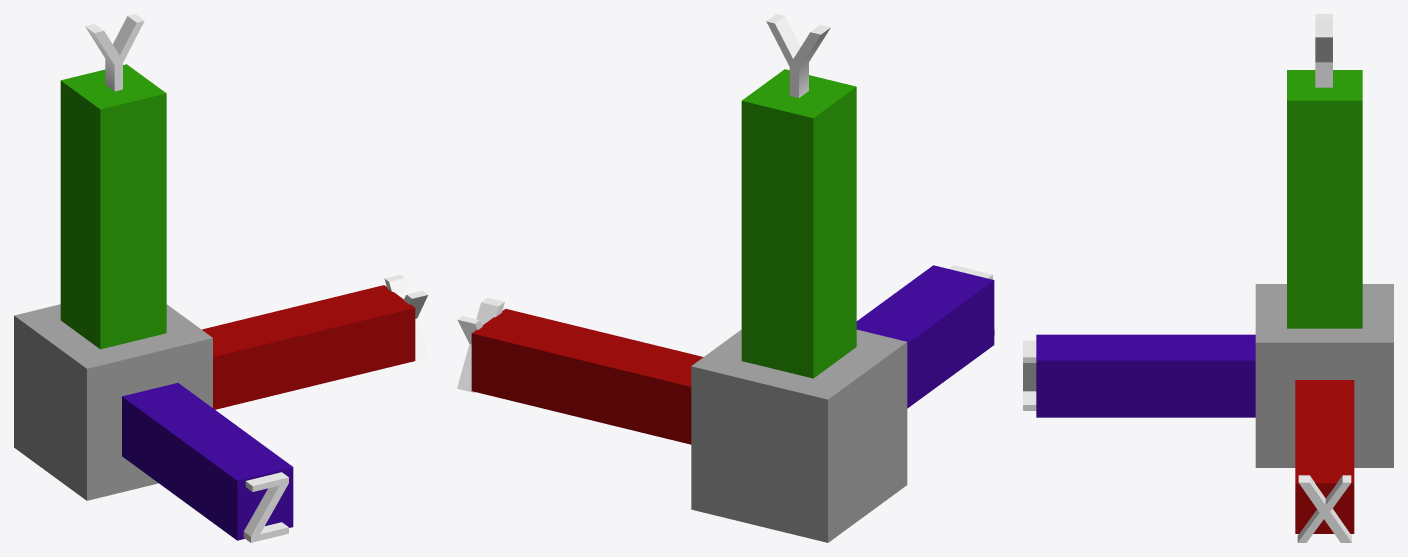
The model's file is XYZ.fbx.
3 renders of one model, left to right at view 1: azimuth 30°, elevation 25°; view 2: azimuth 150°, elevation 25°; view 3: azimuth 270°, elevation 25°, orthographic. The views are drawn at different scales.
Visible parts, largest first — view 1: XYZ_Test; view 2: XYZ_Test; view 3: XYZ_Test.
Boxes of the visible parts, x1,y1,x2,y2 form: XYZ_Test: (14,14,428,542); XYZ_Test: (457,14,994,542); XYZ_Test: (1023,14,1393,542).
Bounding box in the file's own units: 2.89 × 3.3 × 2.68.
